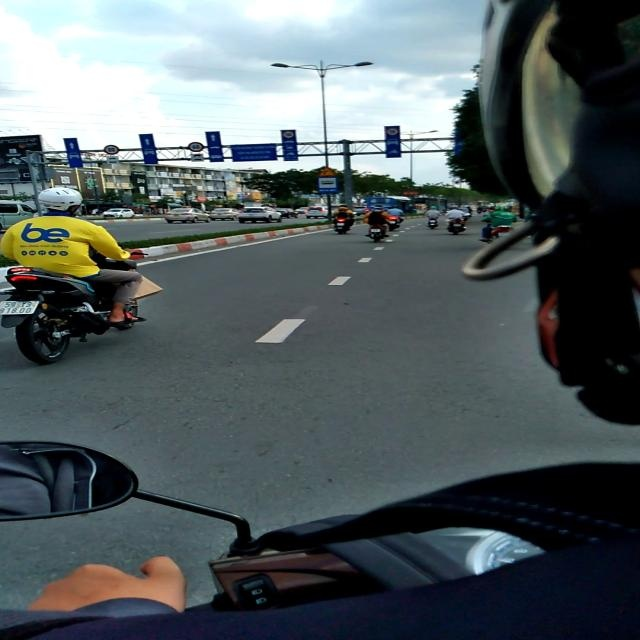bien_chi_dan: (317, 178, 338, 194), (317, 166, 337, 176), (103, 144, 120, 154), (188, 142, 205, 152), (385, 127, 399, 136), (282, 130, 295, 138)
